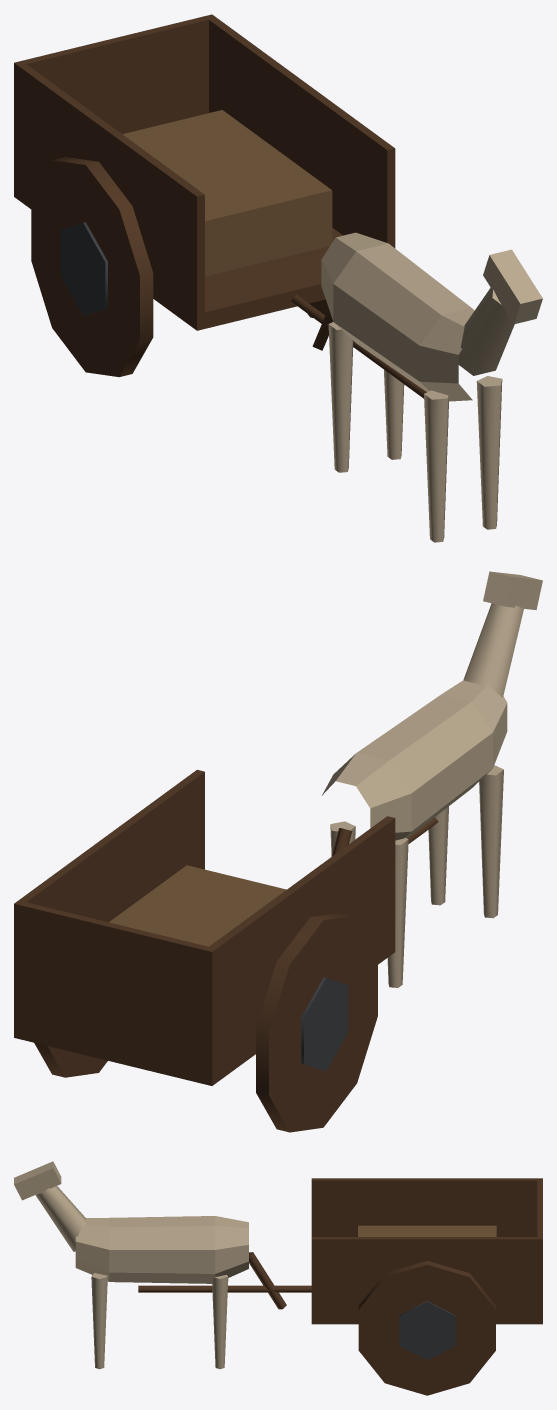
Rendered from veh_ground_cart_a04.glb.
The picture shows the model from 3 angles, top to bottom: view 1: azimuth 30°, elevation 25°; view 2: azimuth 150°, elevation 25°; view 3: azimuth 270°, elevation 25°; orthographic projection. The views are drawn at different scales.
Parts seen in each view (by area): view 1: body, animal_0, wheel_0; view 2: body, animal_0, wheel_0, wheel_1; view 3: body, animal_0, wheel_1.
Boxes of the visible parts, left/top/right/bottom form: body: left=14, top=14, right=426, bottom=398; animal_0: left=312, top=232, right=542, bottom=542; wheel_0: left=31, top=157, right=153, bottom=377; body: left=14, top=769, right=438, bottom=1085; animal_0: left=322, top=571, right=542, bottom=987; wheel_0: left=256, top=912, right=377, bottom=1132; wheel_1: left=34, top=1043, right=107, bottom=1077; body: left=138, top=1178, right=542, bottom=1324; animal_0: left=14, top=1161, right=286, bottom=1369; wheel_1: left=358, top=1260, right=495, bottom=1395.
Size of what is drawn, in the model's own units: 1.84 by 2.23 by 5.49.
